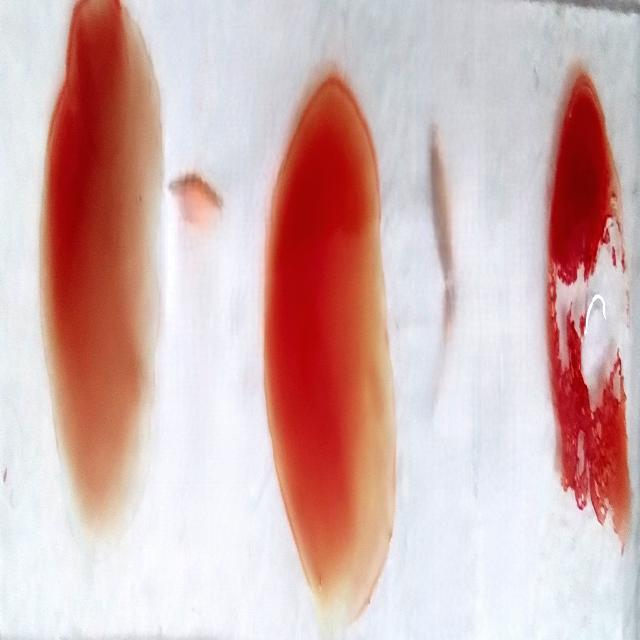D: (549, 80, 635, 552)
